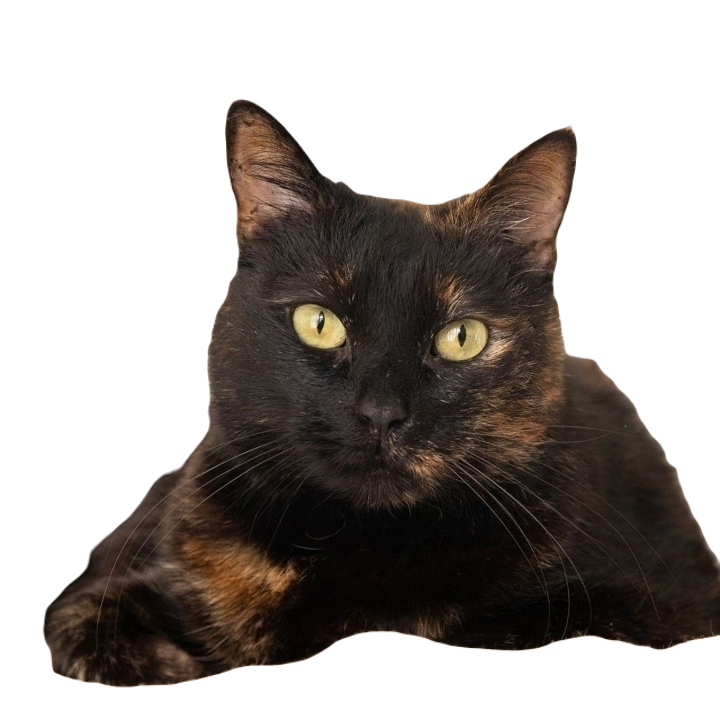Cat: (39, 80, 719, 688)
